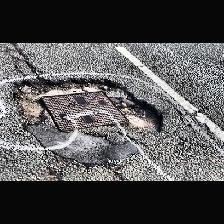pothole: (11, 76, 164, 134)
